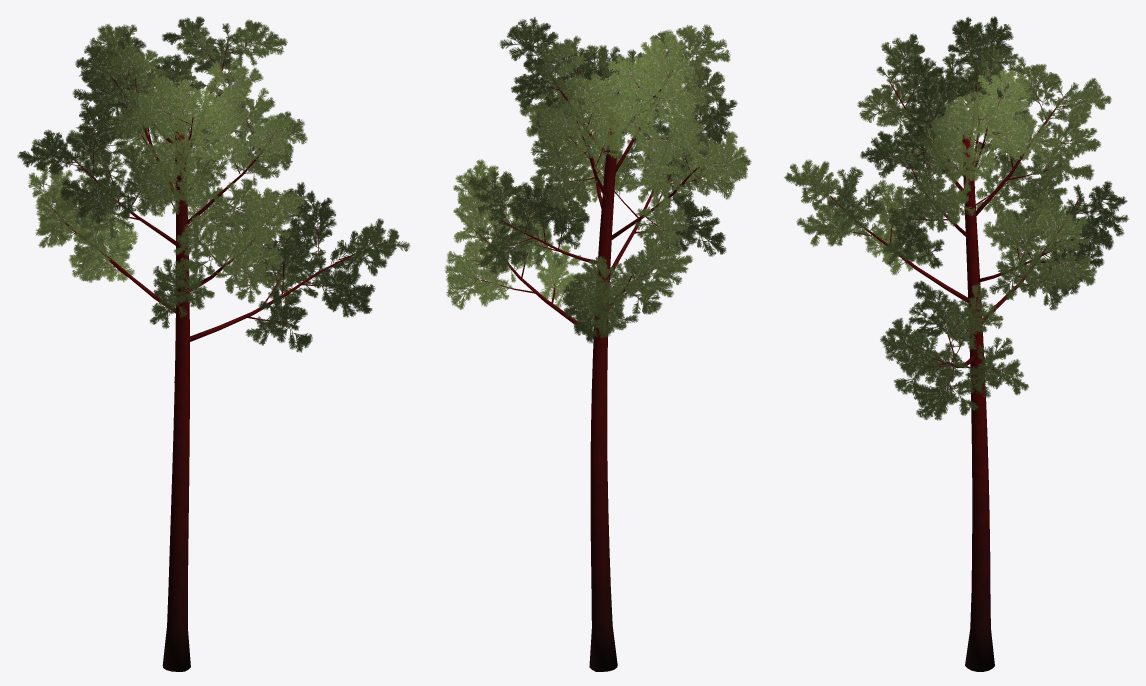
Rendered from pine_open_v03.glb.
3 renders of one model, left to right at view 1: azimuth 30°, elevation 25°; view 2: azimuth 150°, elevation 25°; view 3: azimuth 270°, elevation 25°, orthographic. The views are drawn at different scales.
Visible parts, largest first — view 1: pine_open_v03; view 2: pine_open_v03; view 3: pine_open_v03.
Boxes of the visible parts, x1,y1,x2,y2 form: pine_open_v03: (17, 16, 410, 671); pine_open_v03: (444, 17, 751, 671); pine_open_v03: (784, 16, 1128, 671).
Bounding box in the file's own units: 15.59 × 28.28 × 14.43.
2 materials, 2 textured.
